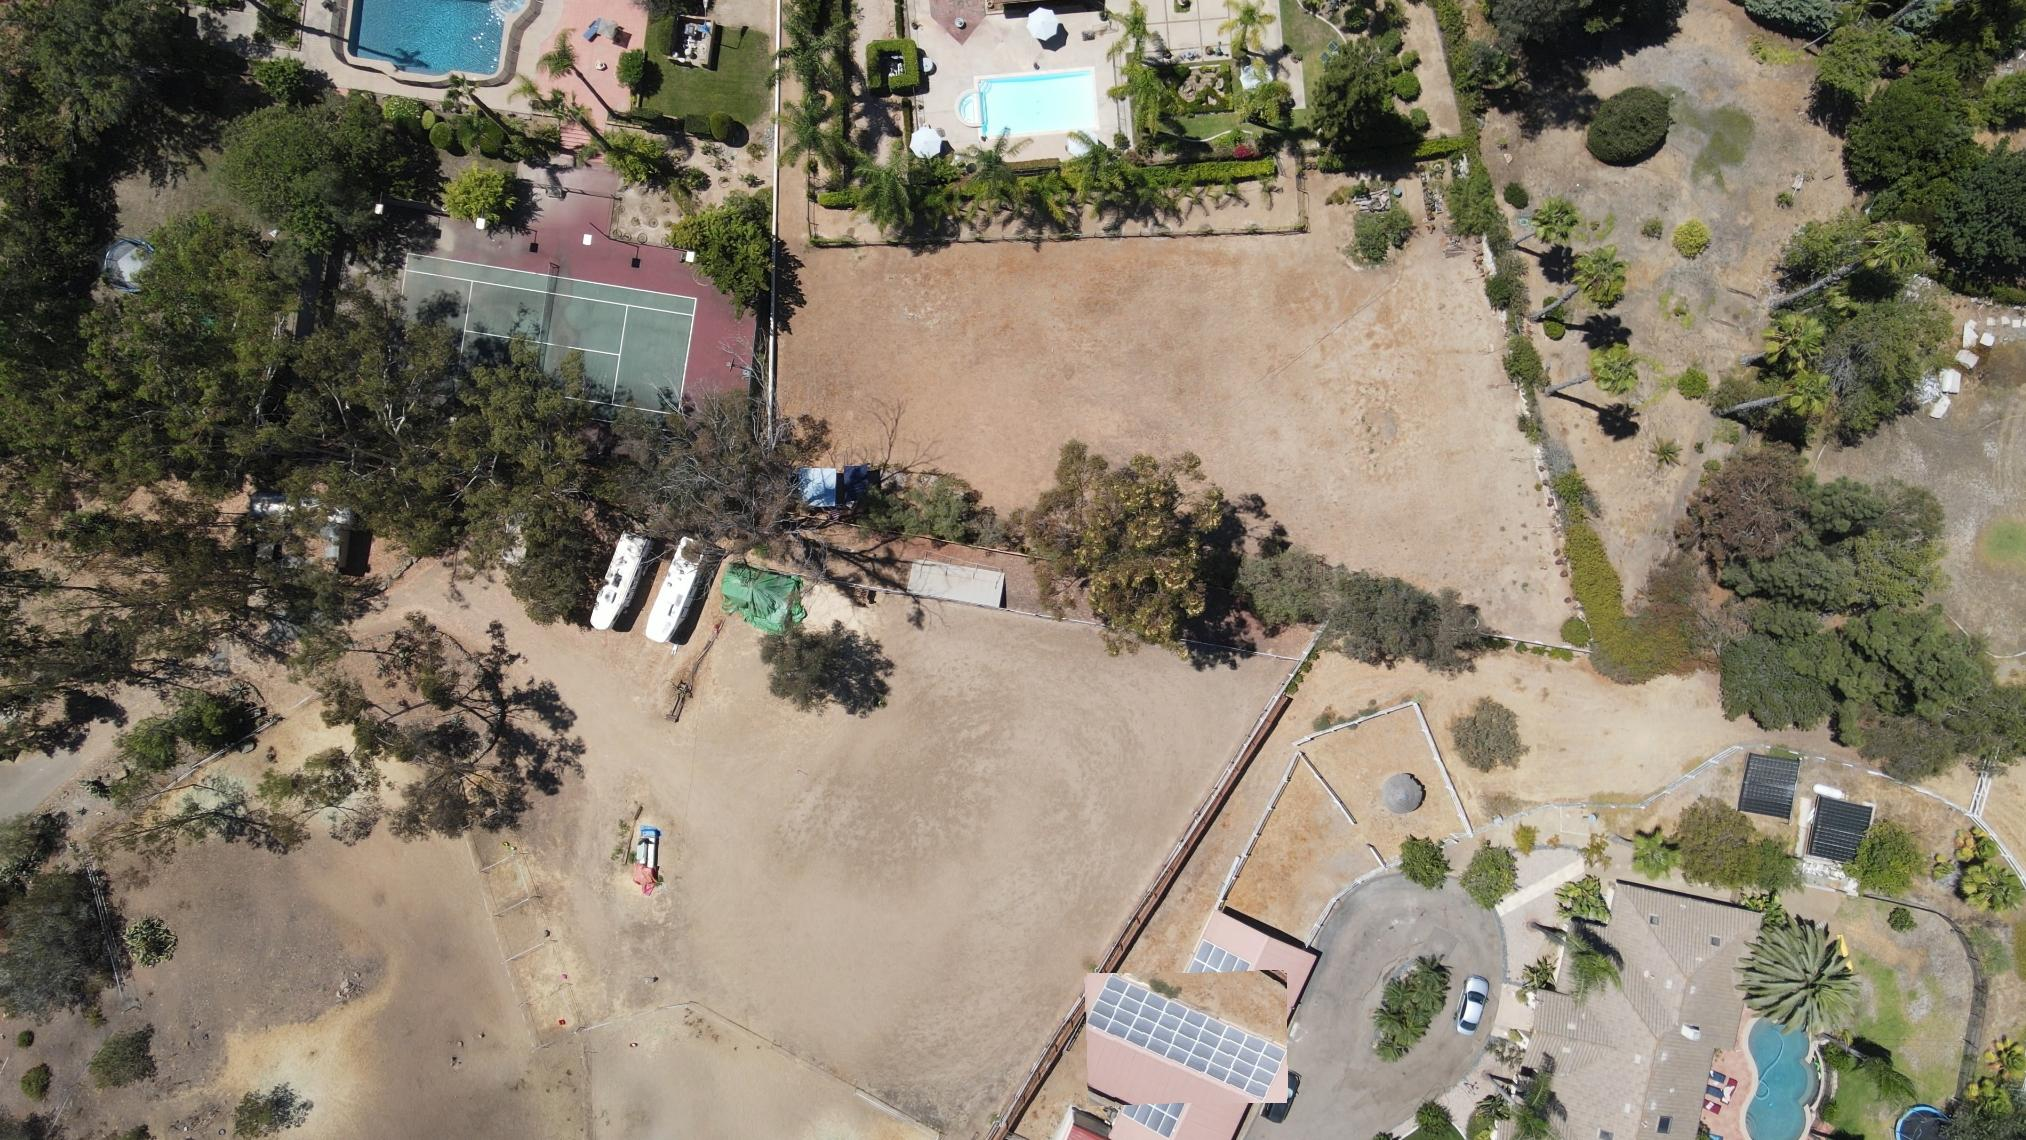solar-panels: (1085, 976, 1287, 1101)
